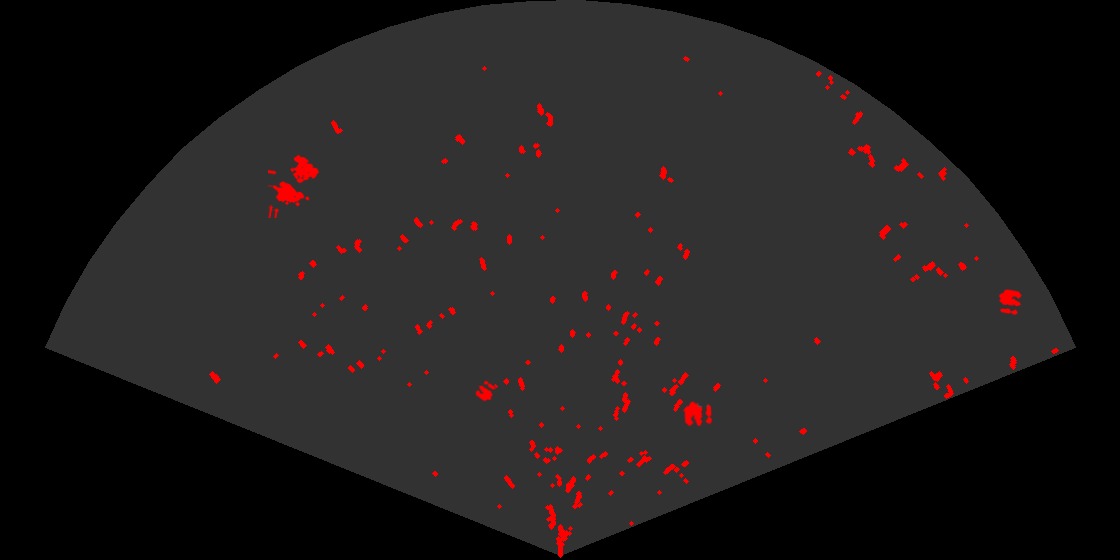ball: (683, 400, 714, 428), (997, 288, 1024, 316), (474, 379, 497, 403)
cage: (268, 153, 321, 218)
